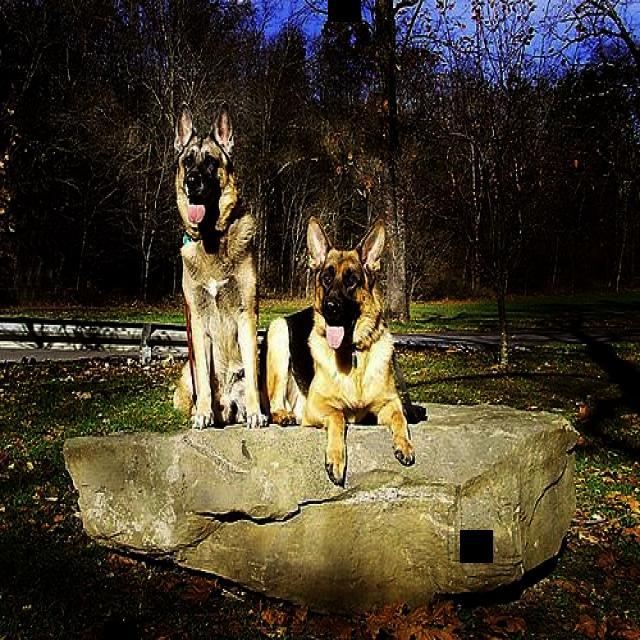adult_dog: (266, 214, 416, 489), (167, 102, 270, 431)
